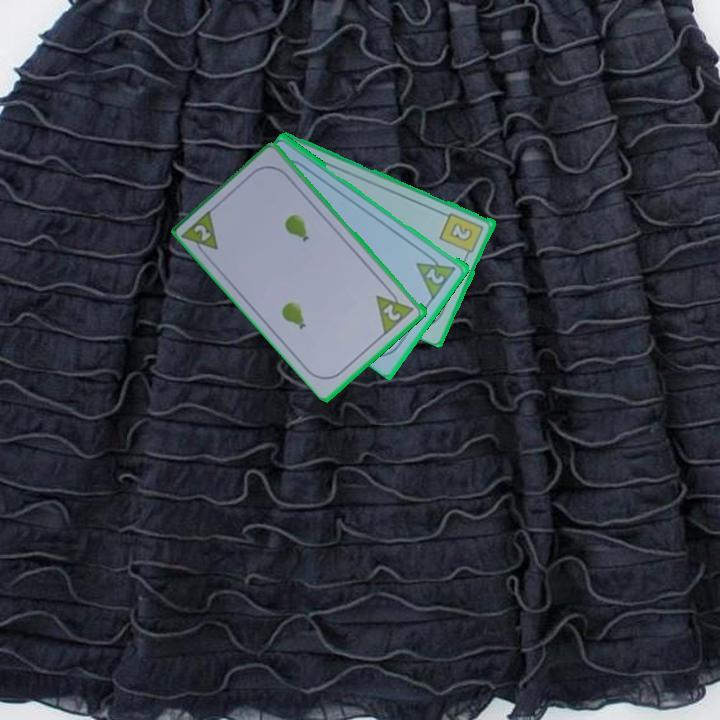2b: (437, 209, 487, 261)
2p: (373, 283, 418, 337), (423, 264, 448, 287), (191, 221, 214, 244)
